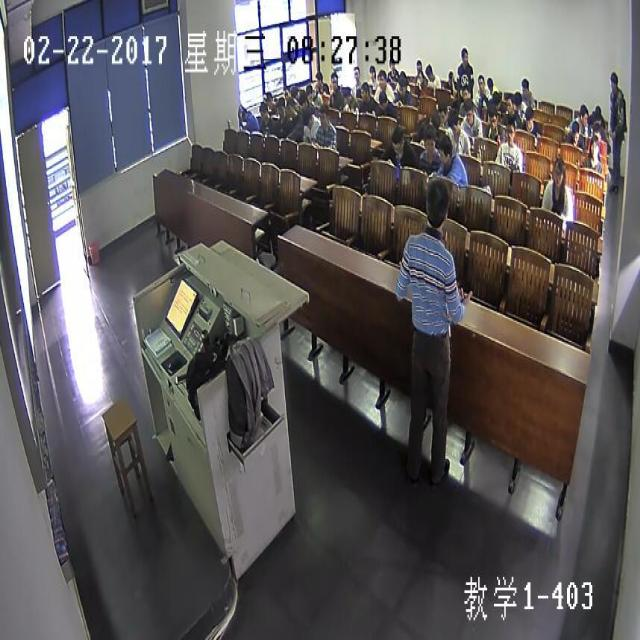no_helmet: (424, 170, 449, 230), (438, 132, 455, 170), (446, 106, 461, 141), (389, 126, 404, 154), (552, 153, 564, 186), (436, 96, 449, 125), (423, 128, 436, 156), (576, 99, 588, 126), (502, 117, 515, 141), (586, 136, 599, 160), (429, 108, 439, 136), (302, 103, 313, 126), (317, 103, 328, 126), (257, 99, 268, 121), (569, 120, 580, 142), (487, 104, 497, 128), (504, 91, 514, 114), (304, 83, 314, 105), (376, 67, 386, 89), (396, 75, 406, 97), (511, 86, 522, 106), (476, 70, 485, 94), (608, 70, 618, 91), (591, 125, 602, 144), (524, 105, 533, 128), (359, 79, 369, 99), (463, 101, 472, 122), (284, 96, 293, 116), (342, 83, 351, 103), (378, 88, 387, 108), (460, 83, 470, 101), (492, 88, 501, 108), (520, 76, 529, 96), (275, 96, 284, 115), (424, 61, 433, 80), (236, 102, 246, 119), (447, 68, 456, 86), (288, 83, 298, 99), (298, 88, 306, 108), (319, 80, 329, 96), (486, 72, 494, 92), (461, 42, 468, 64), (264, 87, 272, 106), (592, 107, 600, 126), (367, 60, 374, 80), (314, 70, 322, 87), (352, 64, 360, 80), (329, 71, 336, 89), (414, 56, 421, 74), (387, 55, 395, 70), (415, 70, 423, 84)
